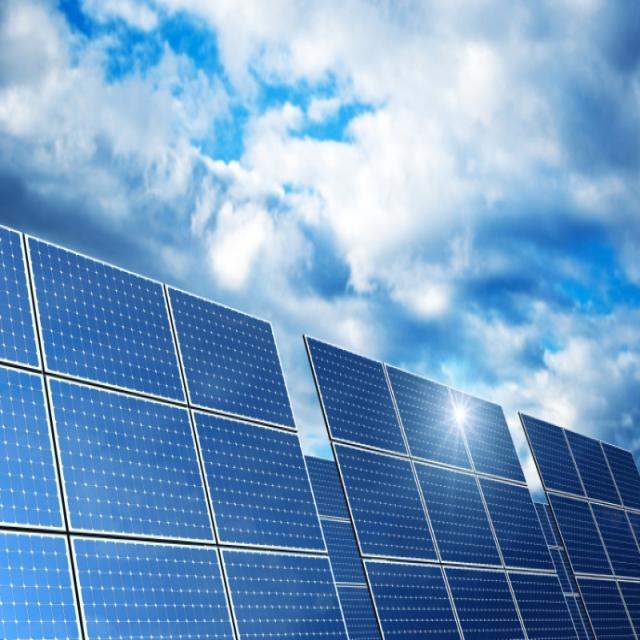clean-solar-panel: (1, 226, 640, 639)
